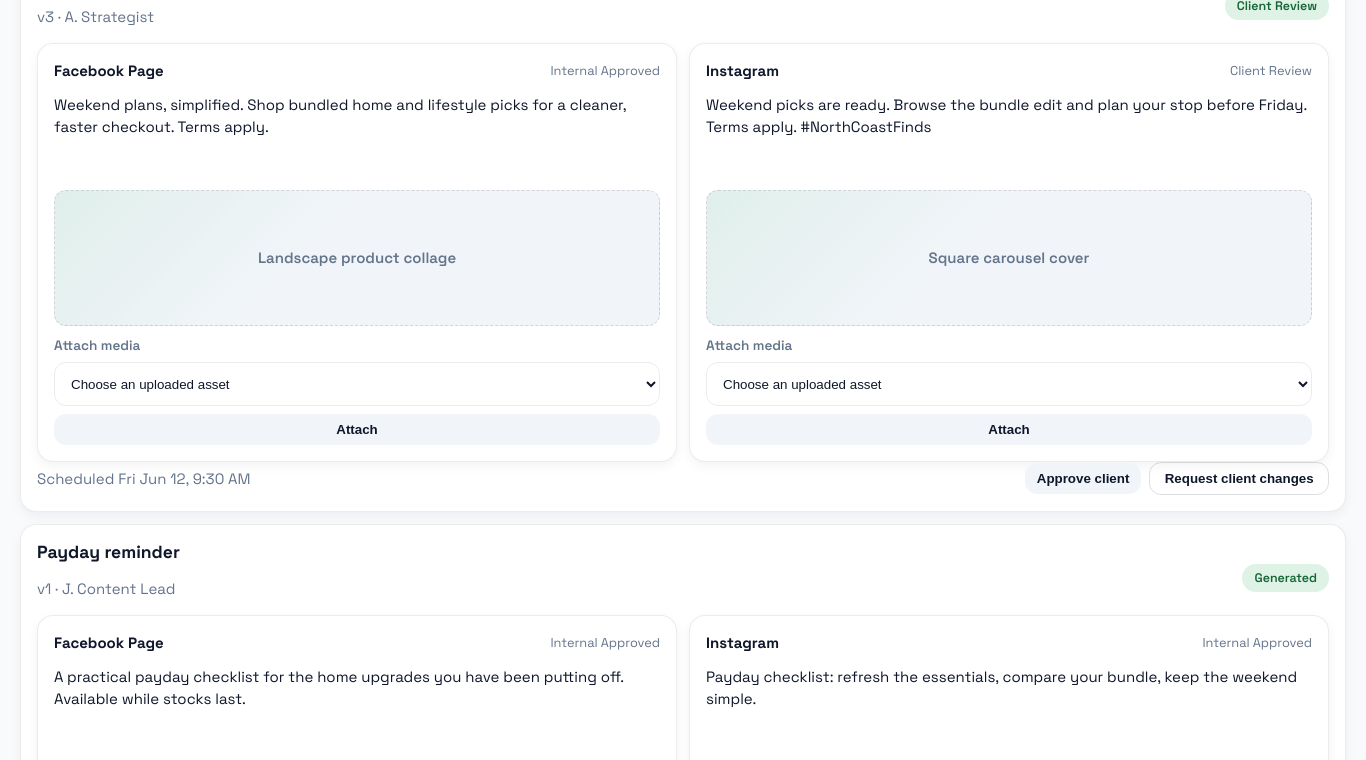
it: ContentOpsPage › attaches uploaded media to a draft by creating a new version
This screenshot has width=1366, height=760.
(page scrolled)
Select "Hero product visual" in the dropdown named "Attach media to Weekend bundle announcement Facebook Page" at point(357, 384), box x1=54 y1=362 x2=660 y2=406
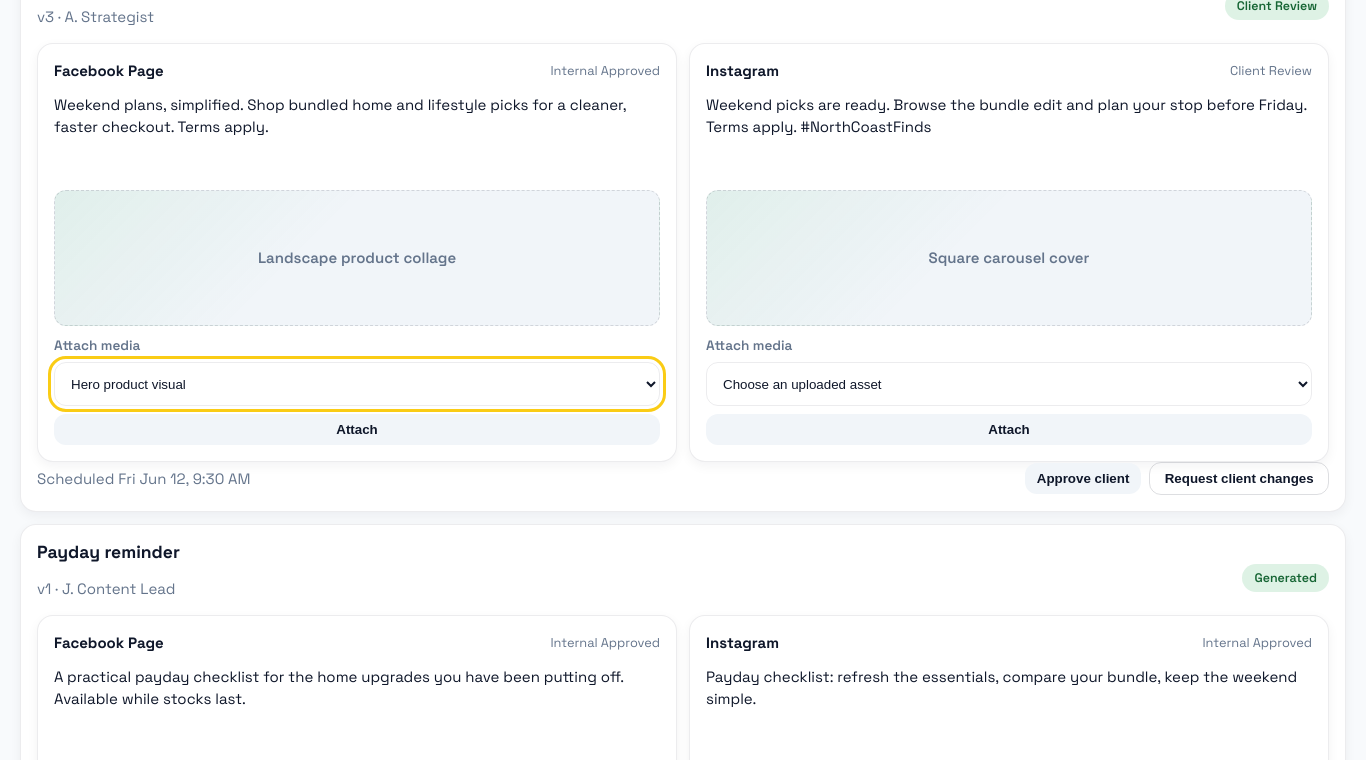
Expected: the element named "Attach media to Weekend bundle announcement Facebook Page" is shown, x1=54 y1=338 x2=660 y2=445
Click the button "Attach" below "Landscape product collage" at point(357, 430), box x1=54 y1=414 x2=660 y2=445
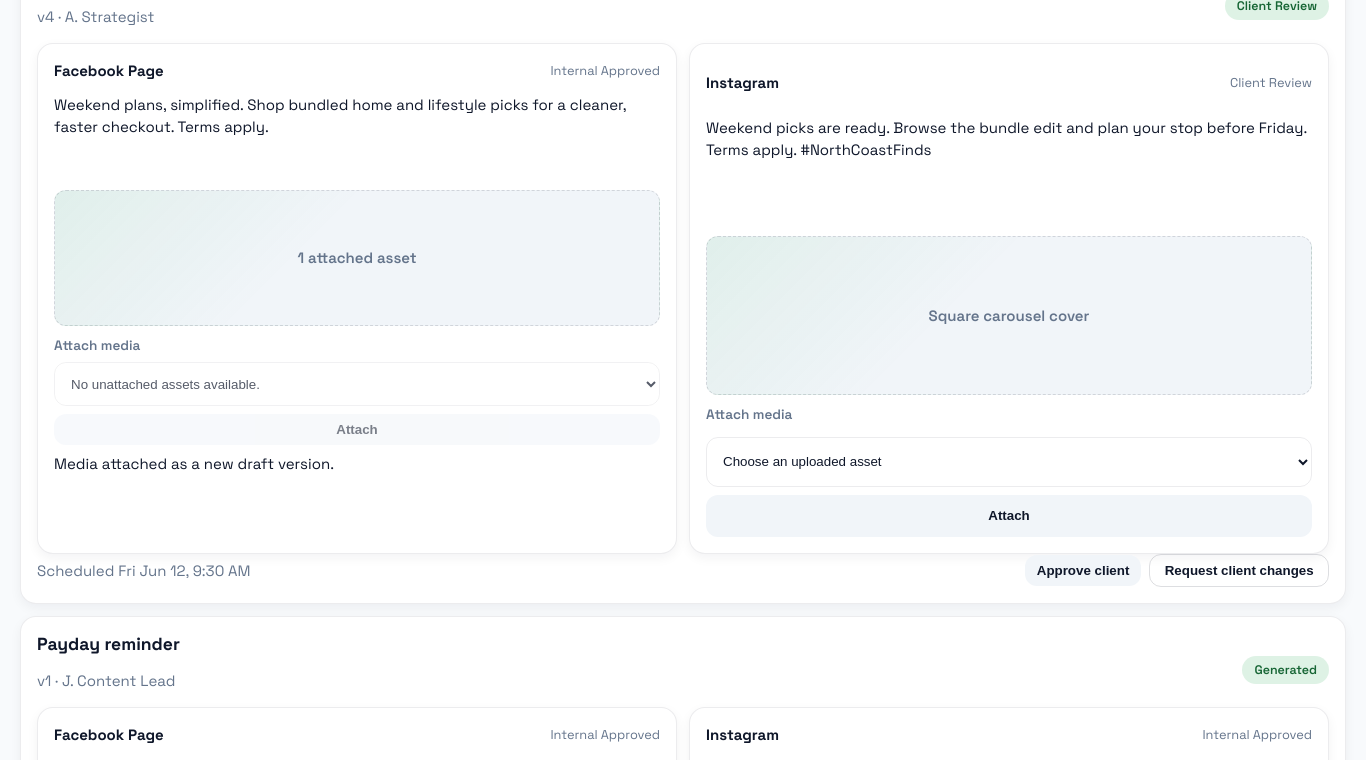
Result: the text "Media attached as a new draft version." is shown at x1=54 y1=454 x2=334 y2=473
Result: the text "v4 · A. Strategist" is shown at x1=37 y1=7 x2=154 y2=26
Result: the text "1 attached asset" is shown at x1=297 y1=247 x2=417 y2=269
